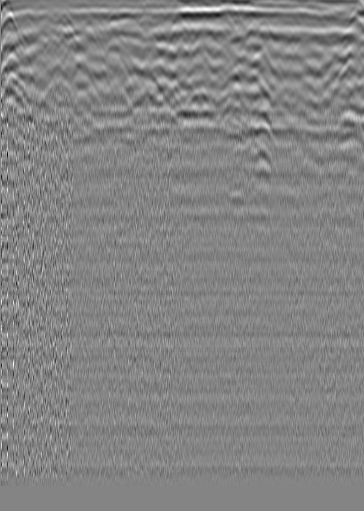가스: (222, 186, 249, 215)
상수: (299, 27, 328, 51)
오수: (16, 13, 41, 41)
우수: (161, 3, 194, 42)
